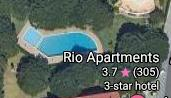pool: (16, 18, 100, 65)
